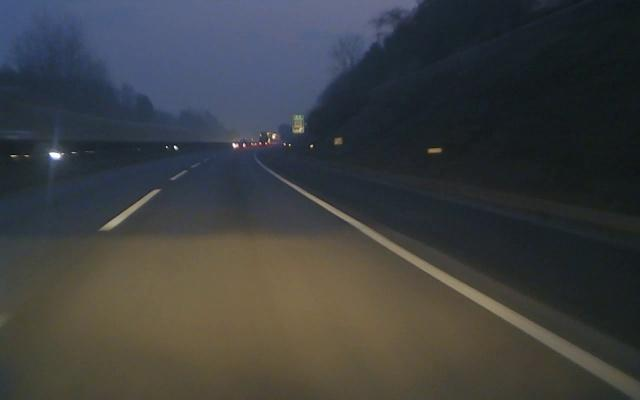lane: (288, 183, 640, 398), (101, 189, 160, 230)
